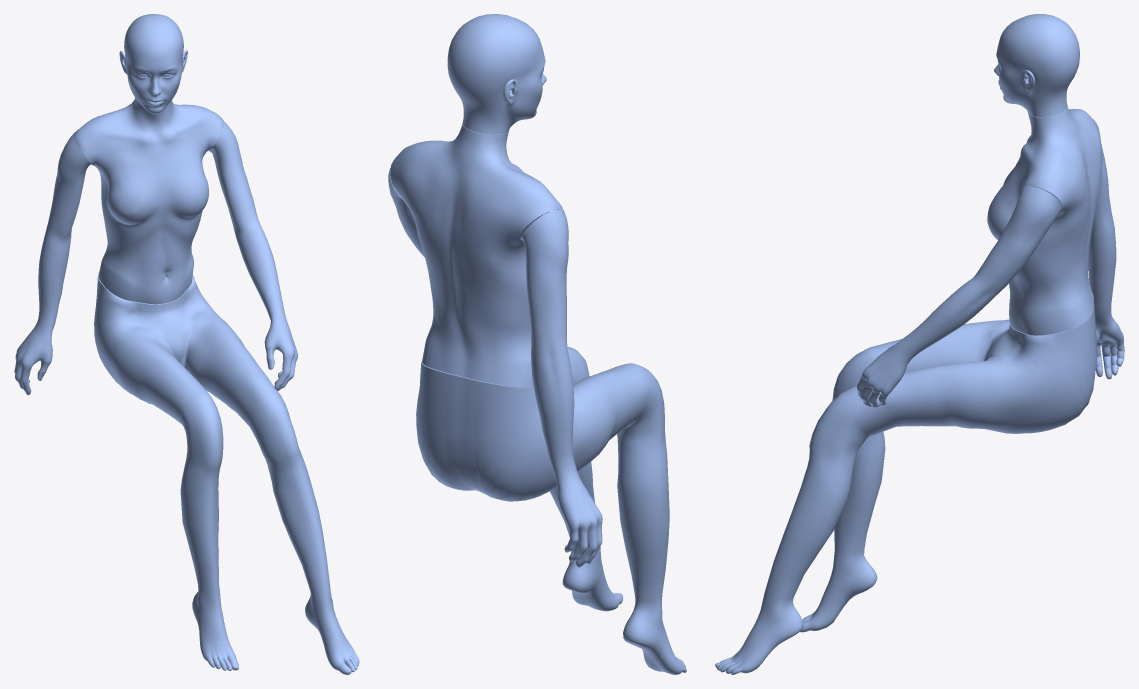
The model's file is Mannequins_female_seat.fbx.
3 renders of one model, left to right at view 1: azimuth 30°, elevation 25°; view 2: azimuth 150°, elevation 25°; view 3: azimuth 270°, elevation 25°, orthographic. The views are drawn at different scales.
Visible parts, largest first — view 1: Mannequins_female_seat_LOD0 (×5); view 2: Mannequins_female_seat_LOD0 (×5); view 3: Mannequins_female_seat_LOD0 (×5).
Boxes of the visible parts, bbox=[...] form: Mannequins_female_seat_LOD0 (×5): bbox=[14, 14, 359, 674]; Mannequins_female_seat_LOD0 (×5): bbox=[388, 14, 686, 674]; Mannequins_female_seat_LOD0 (×5): bbox=[715, 14, 1124, 674].
Bounding box in the file's own units: 127 × 361 × 213.
